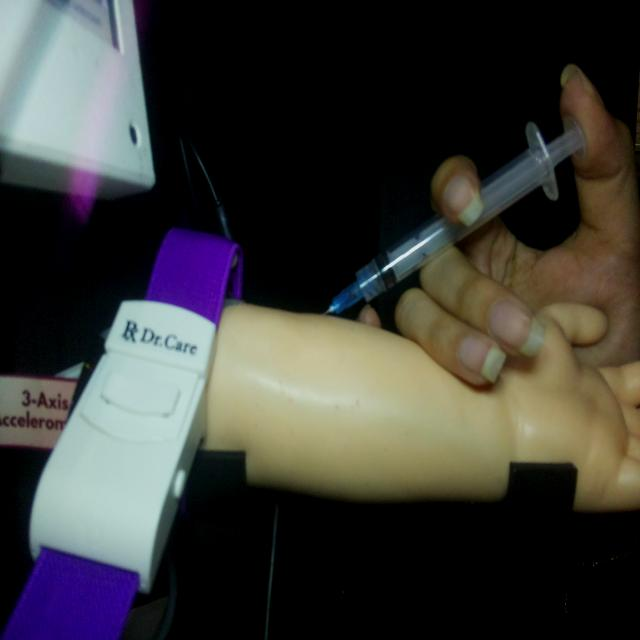25 degrees: (321, 112, 587, 318)
